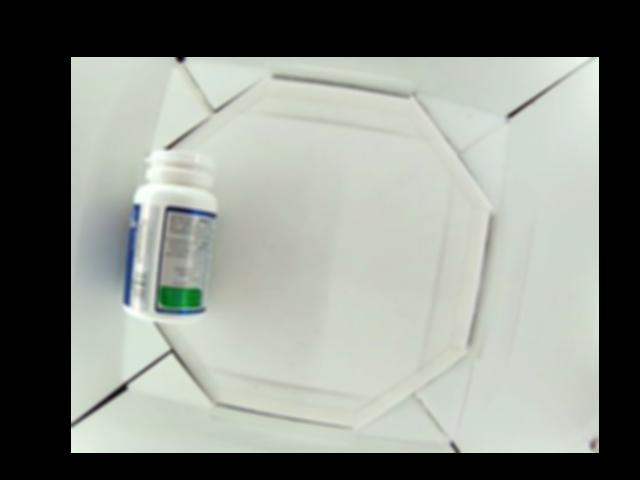Bottle: (118, 150, 215, 317)
